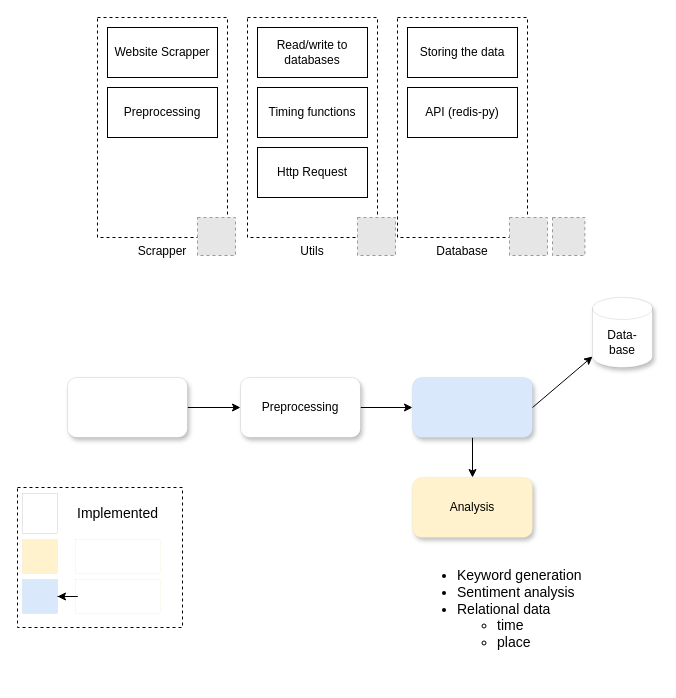
Some shapes in this 676 by 698 pixel diagram are drawn without their labels. Grey dashed boxes stand in for pictures. The shapes that lost their labels are listed below. From the top down, each one's centre as x and y in pixels, then its label:
At pixel 128 408: "Scrape Website".
At pixel 473 408: "Write to database".
At pixel 117 556: "Planned".
At pixel 117 596: "Working On".
